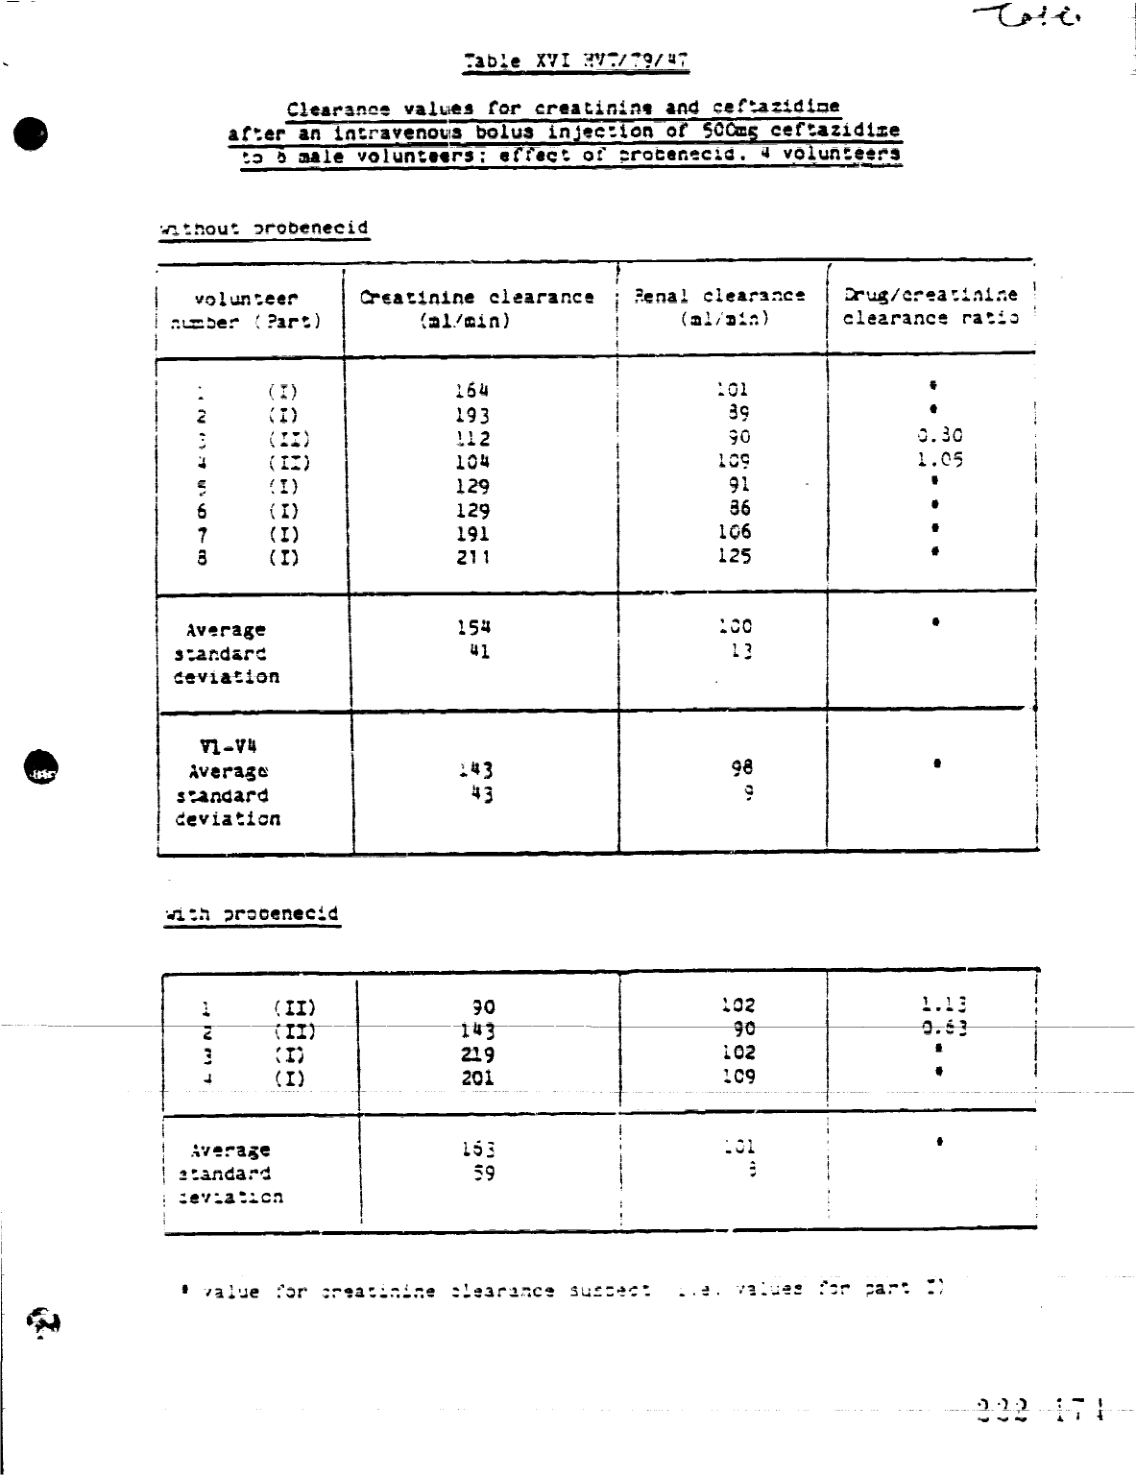partial_lined: (152, 254, 1042, 859), (158, 965, 1041, 1238)
